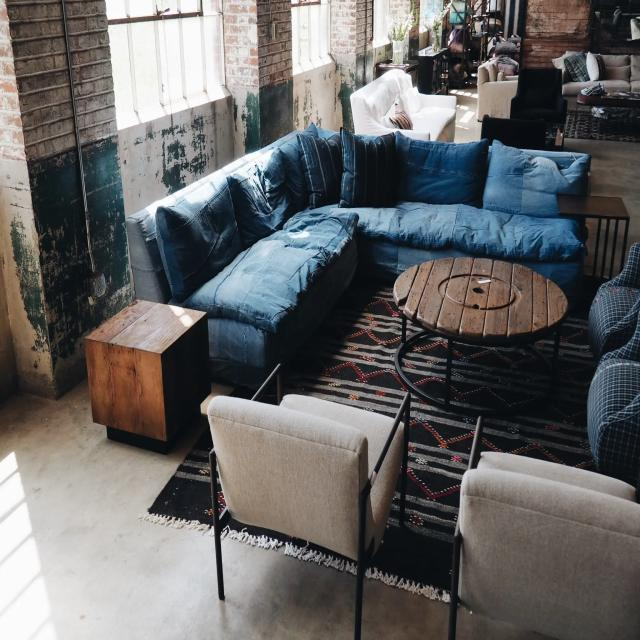vintage chair: (194, 357, 413, 640)
vintage desk: (389, 256, 571, 412)
vintage sofa: (116, 116, 364, 384)
